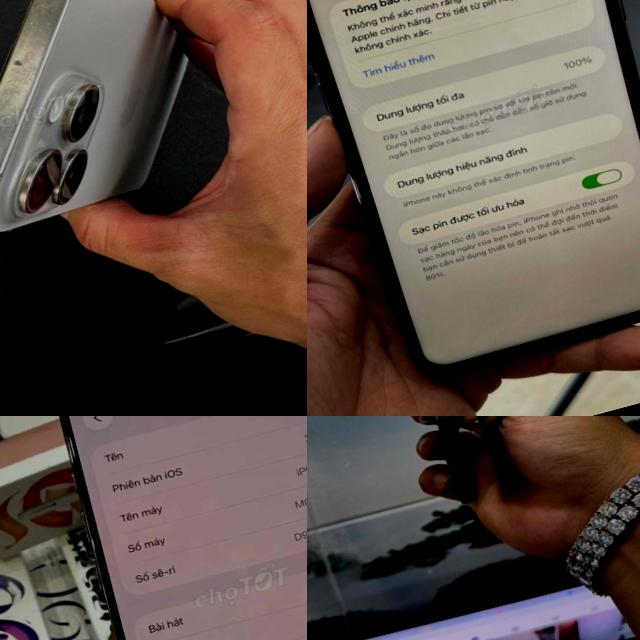scratch: (0, 0, 166, 188)
